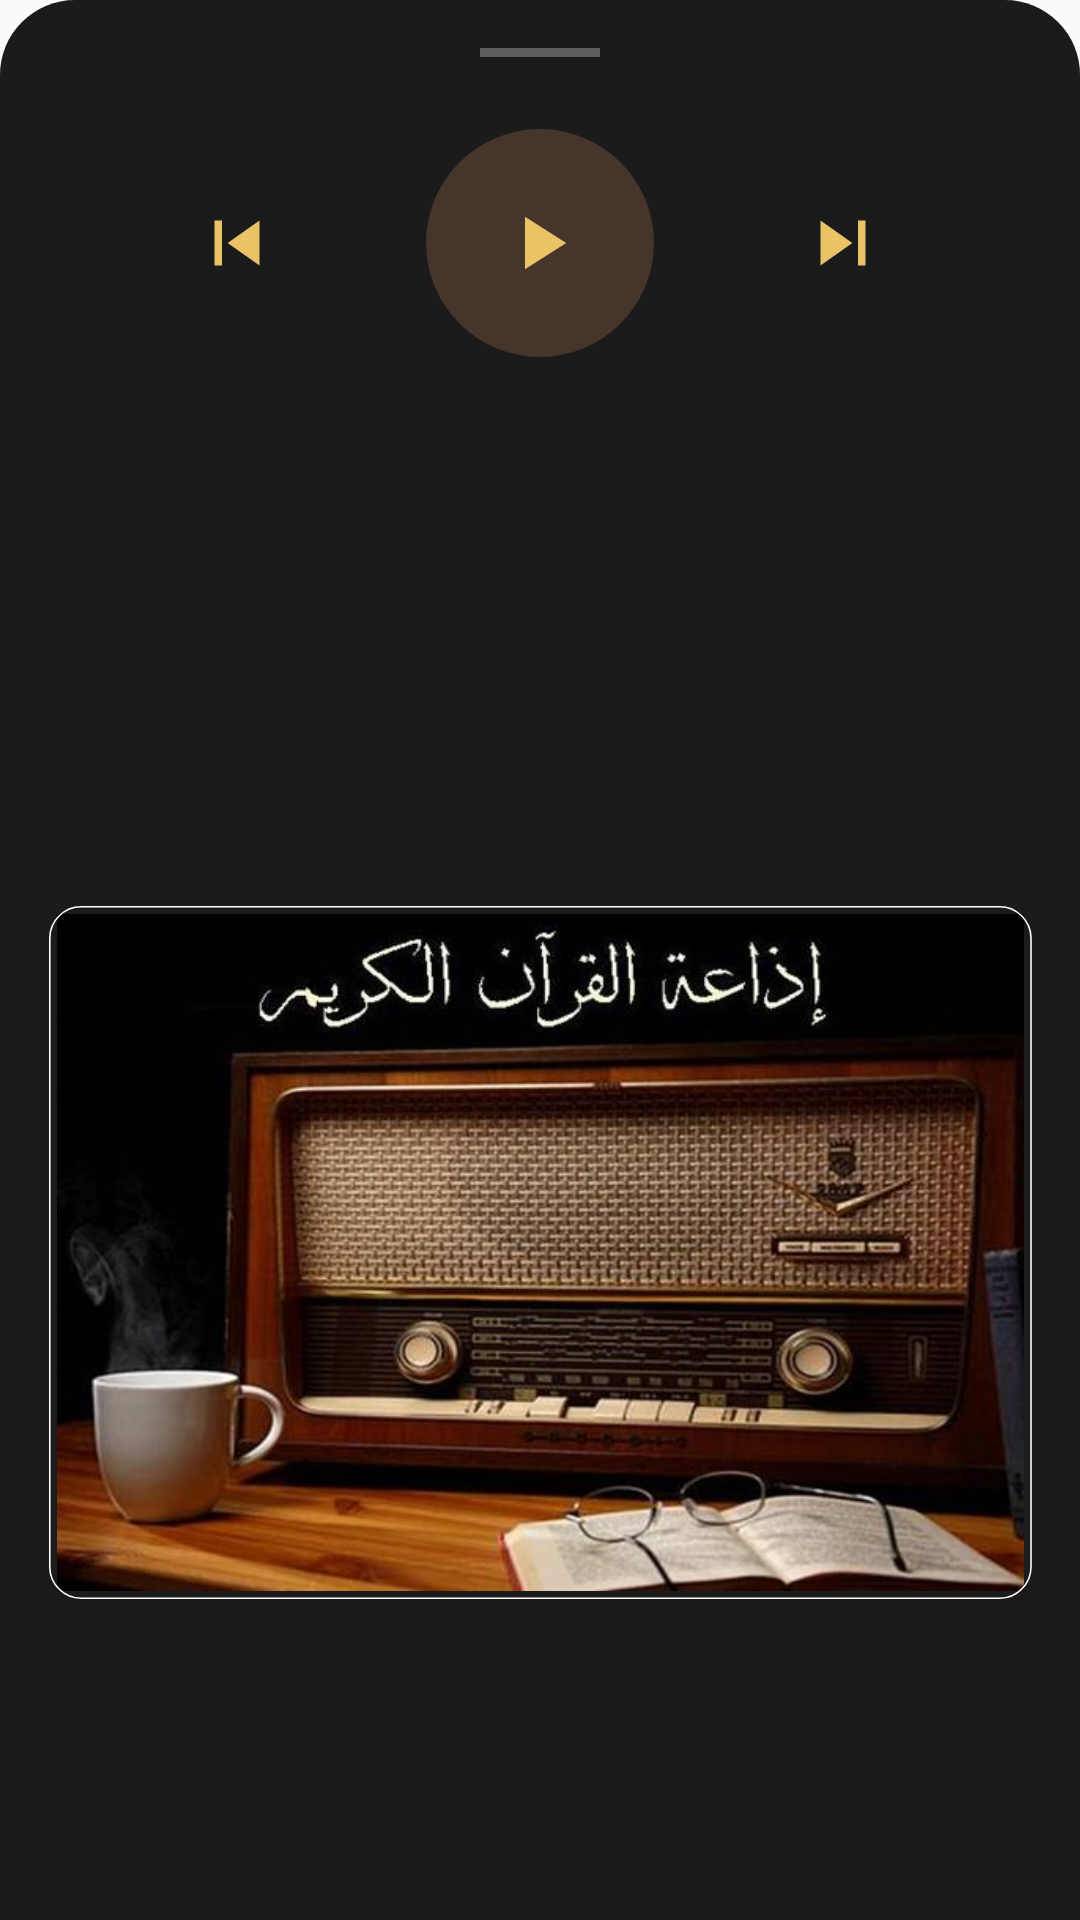

Icon bounding boxes for this 1080 x 1920 phone screenshot, format (x1, y1, x2, y2):
next: (820, 220, 866, 266)
play: (426, 129, 654, 357)
previous: (214, 220, 260, 266)
